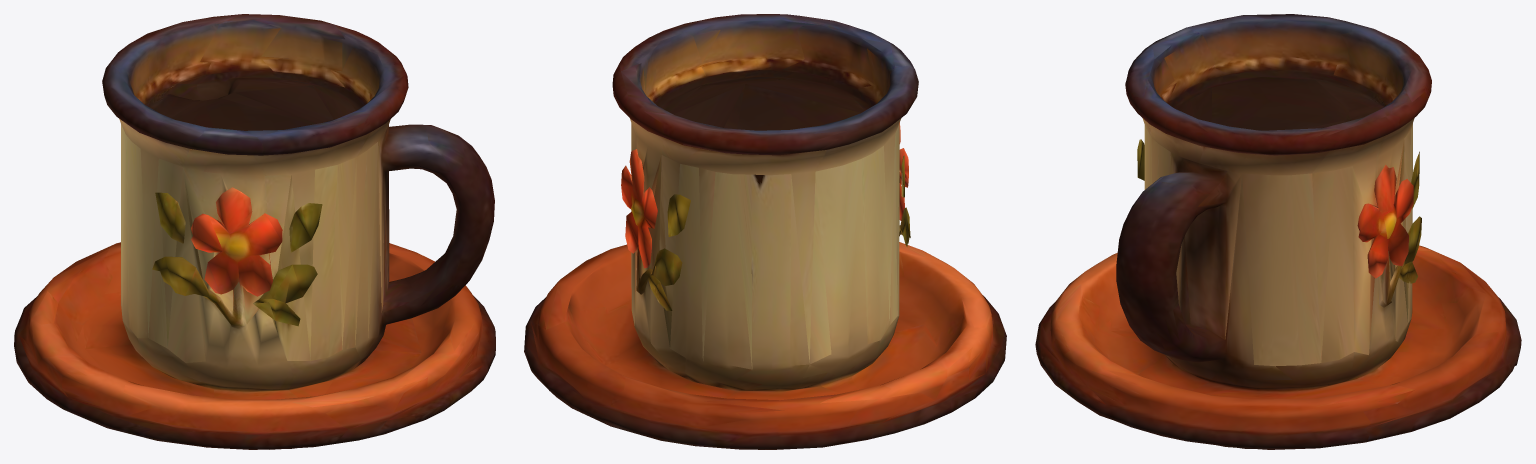
Rendered from cafezinho.glb.
3 views of the same model, side by side, from view 1: azimuth 30°, elevation 25°; view 2: azimuth 150°, elevation 25°; view 3: azimuth 270°, elevation 25° (orthographic).
Parts seen in each view (by area): view 1: cafezinho; view 2: cafezinho; view 3: cafezinho.
Part boxes in pixels (x1,y1,x2,y2): cafezinho: (14, 14, 495, 449); cafezinho: (524, 14, 1006, 449); cafezinho: (1035, 14, 1521, 449).
Size of the model in its own units: 0.999 by 0.6609 by 1.
1 material, 1 textured.
